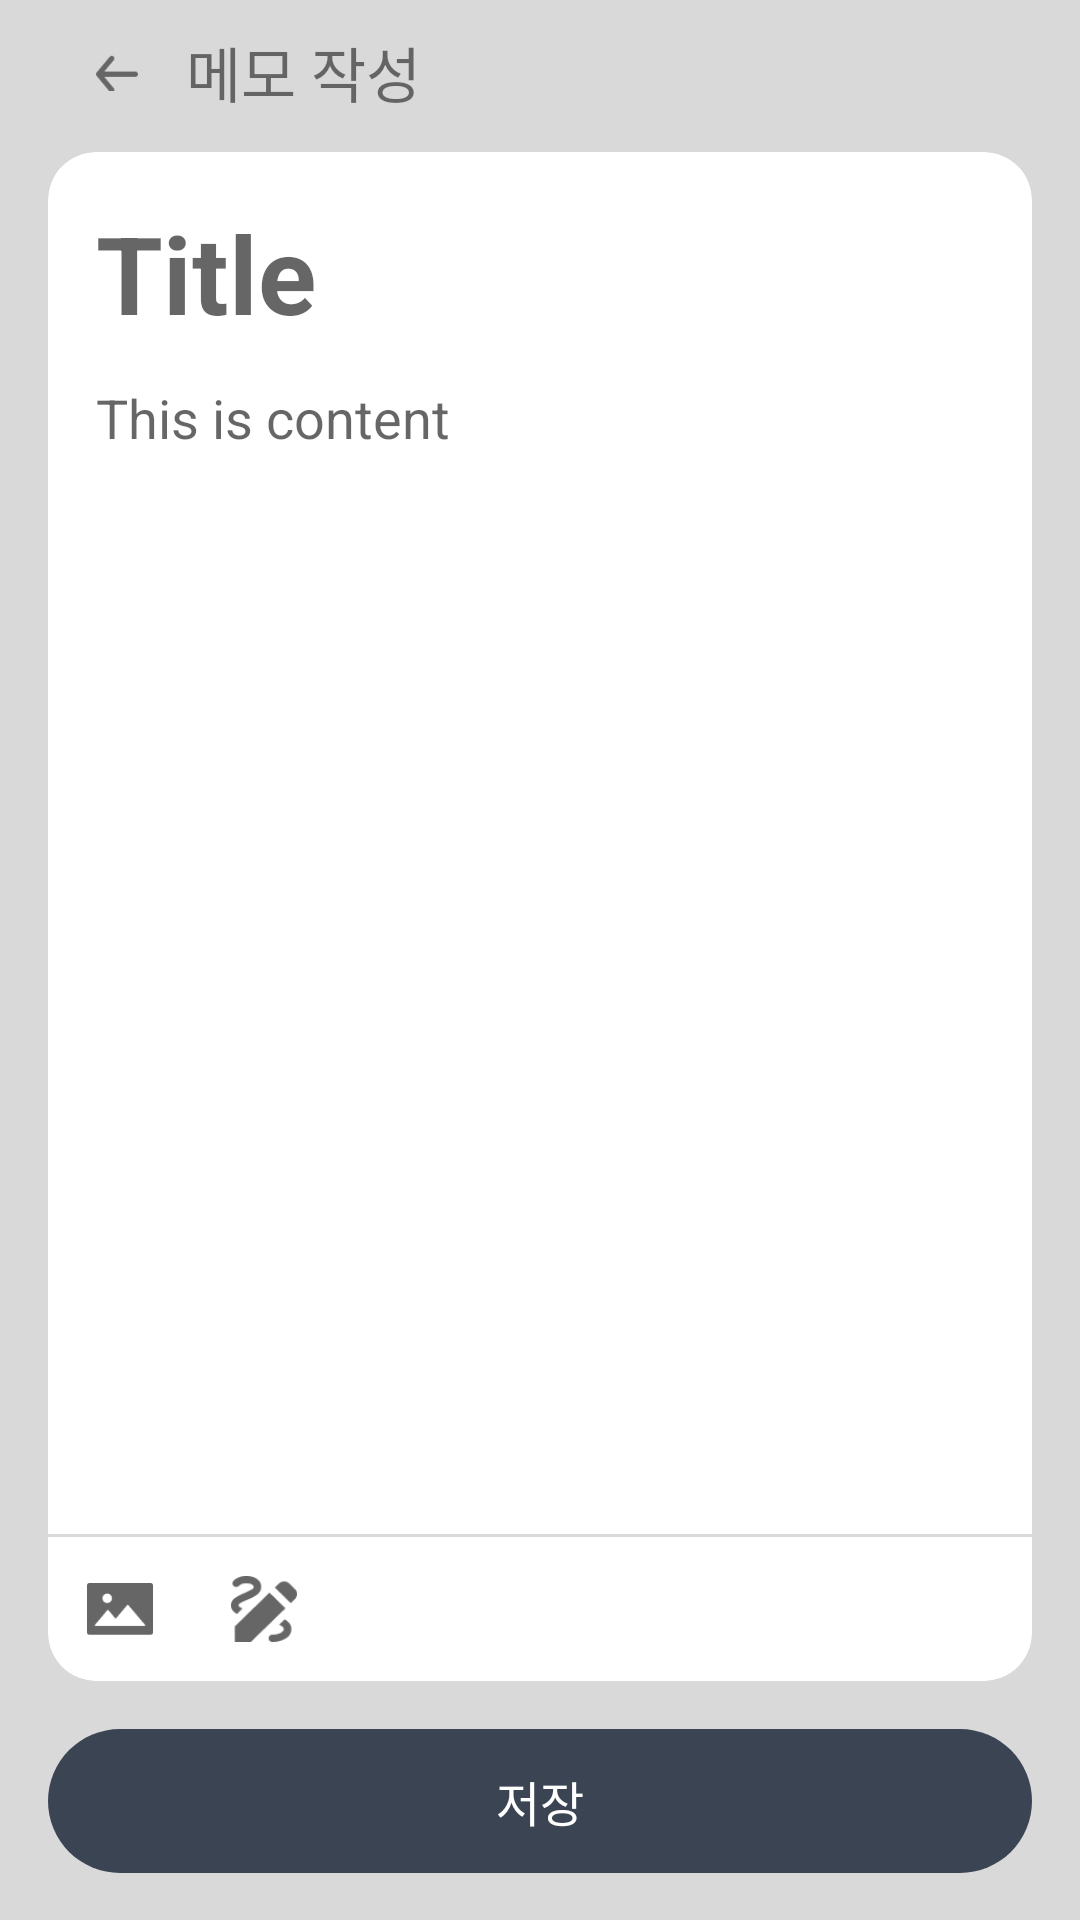

Where to tap for icons on this 1080×1920 app screen, as [x,y]:
back: [117,73]
paint: [264,1609]
